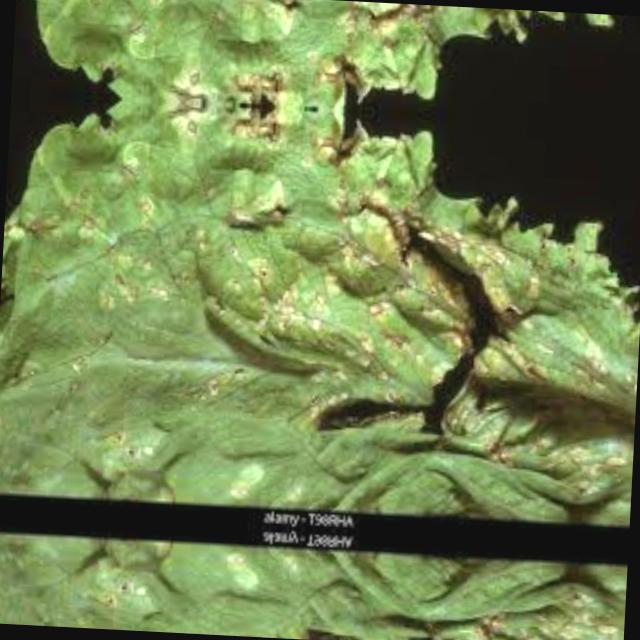Downy_mildew: (0, 94, 640, 519), (11, 0, 640, 124), (0, 539, 626, 640)
